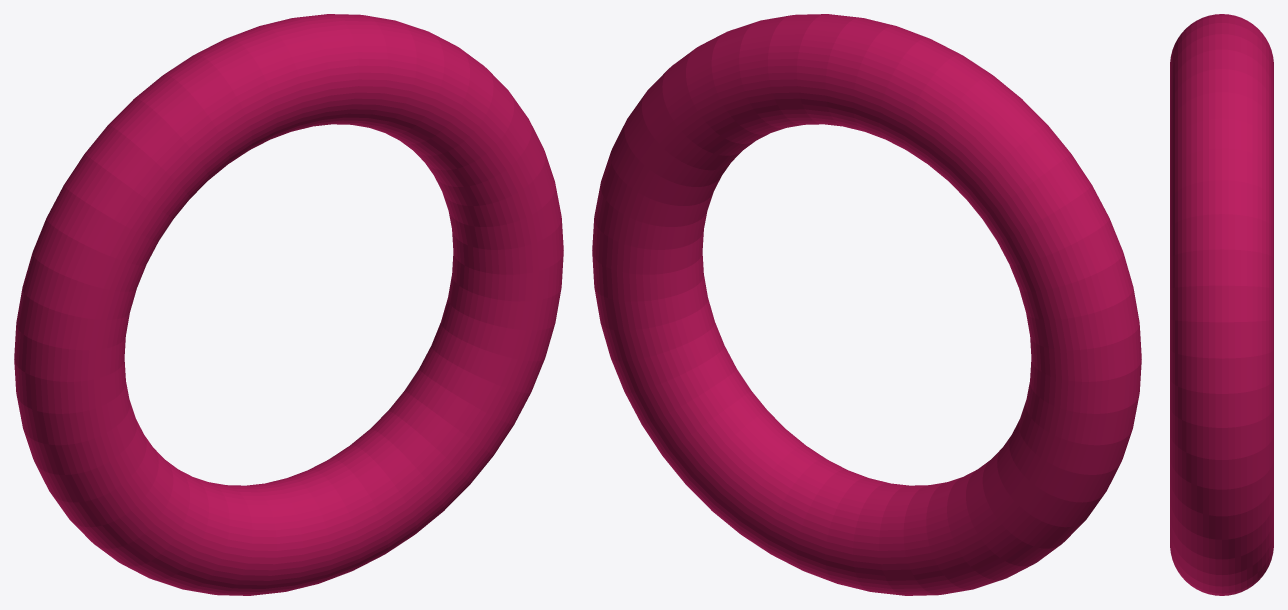
3 views of the same model, side by side, from view 1: azimuth 30°, elevation 25°; view 2: azimuth 150°, elevation 25°; view 3: azimuth 270°, elevation 25° (orthographic). The views are drawn at different scales.
Parts seen in each view (by area): view 1: world; view 2: world; view 3: world.
Boxes of the visible parts, x1,y1,x2,y2 form: world: (14, 14, 563, 595); world: (592, 14, 1141, 595); world: (1170, 14, 1273, 595).
Size of the model in its own units: 36.53 by 36.46 by 6.52.
